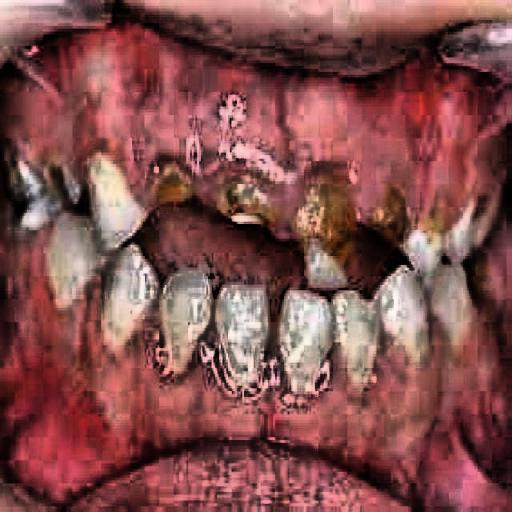Caries: (290, 152, 447, 288), (135, 152, 264, 256), (14, 143, 104, 221)
